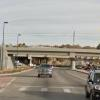Bridge: (8, 30, 89, 66)
